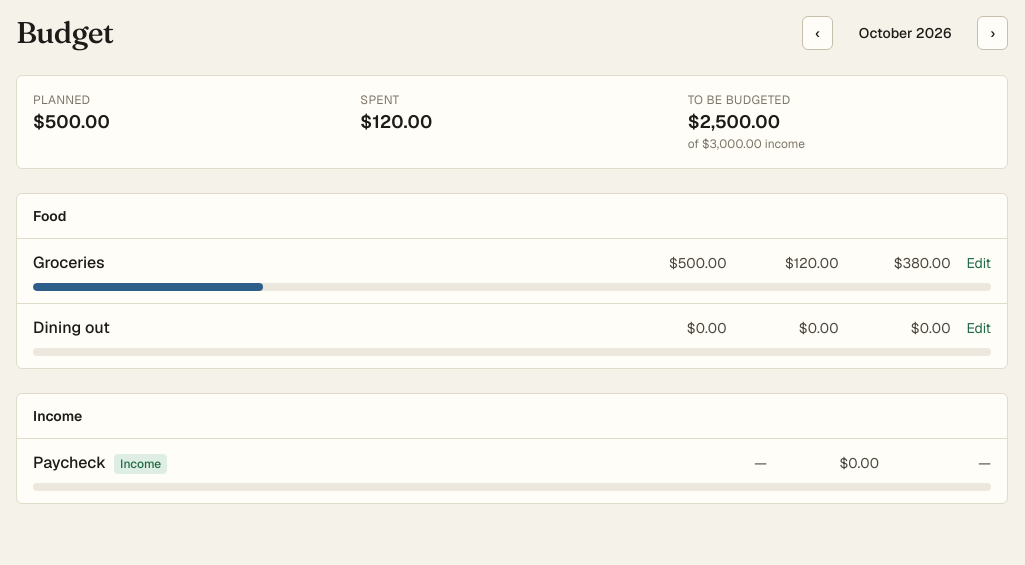
Test: BudgetPage › keeps a newly opened editor when an earlier save resolves
The width and height of the screenshot is (1025, 565).
Expected: the element "Food" is shown, [16,193,1008,369]
Click the button with aria-label "Edit limit for Groceries" at (979, 263), box [966,253,991,273]
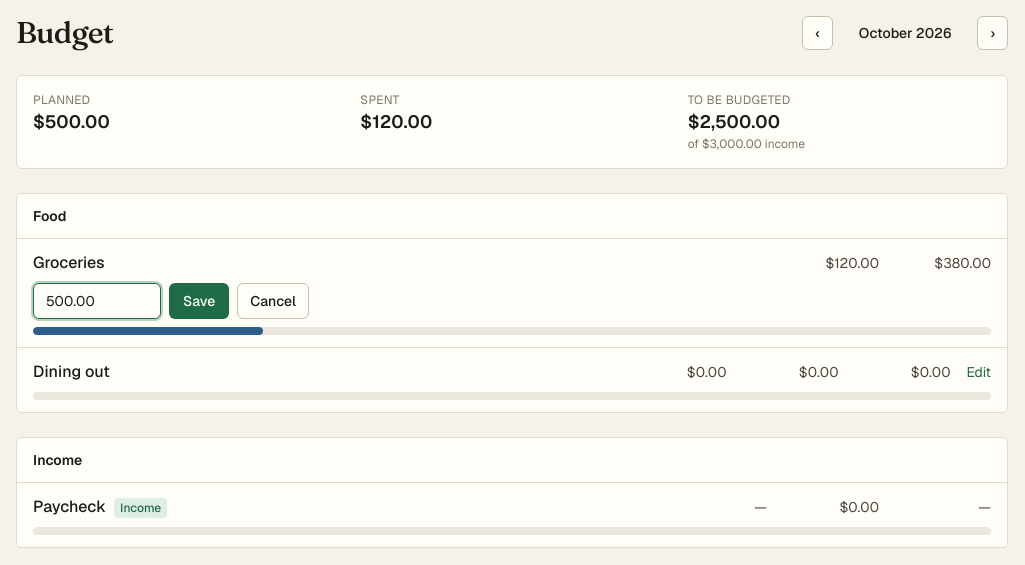
Click the button "Save" at (199, 301), box [169,283,229,319]
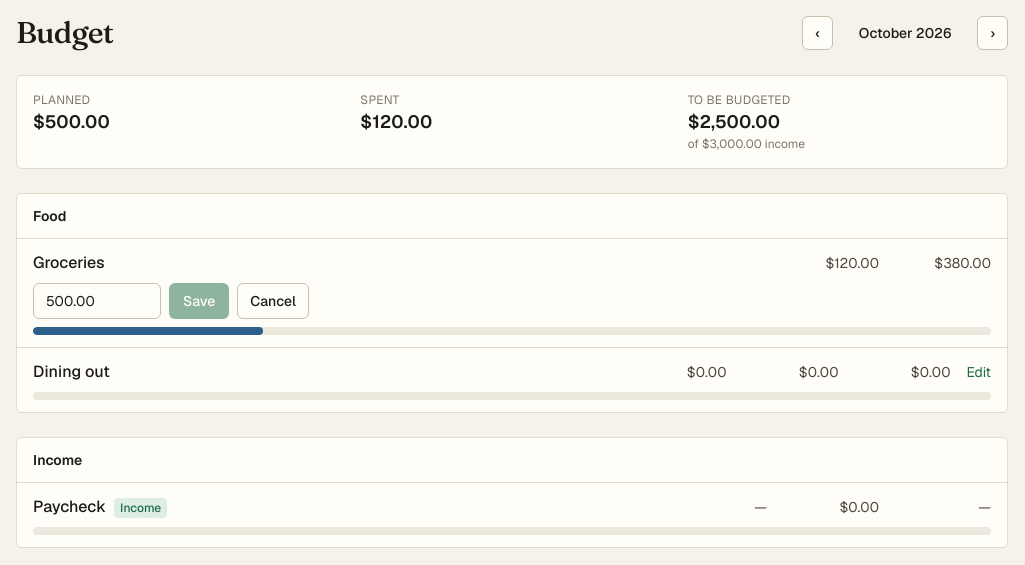
# While the save is in flight, start editing another row.
Click the button with aria-label "Edit limit for Dining out" at (979, 372), box [966,362,991,382]
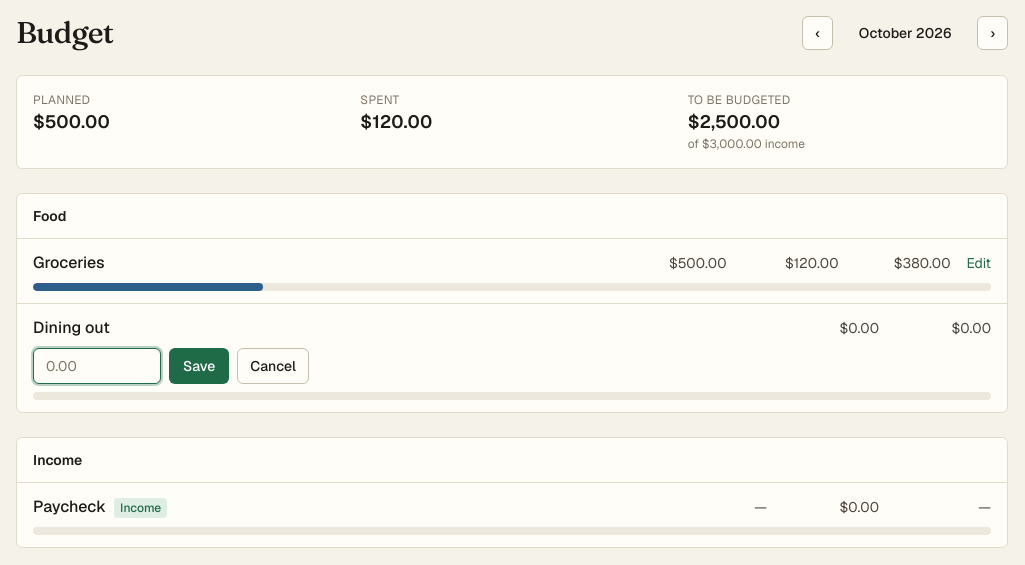
Expected: the field named "Monthly limit for Dining out" is shown, [33,348,161,384]
